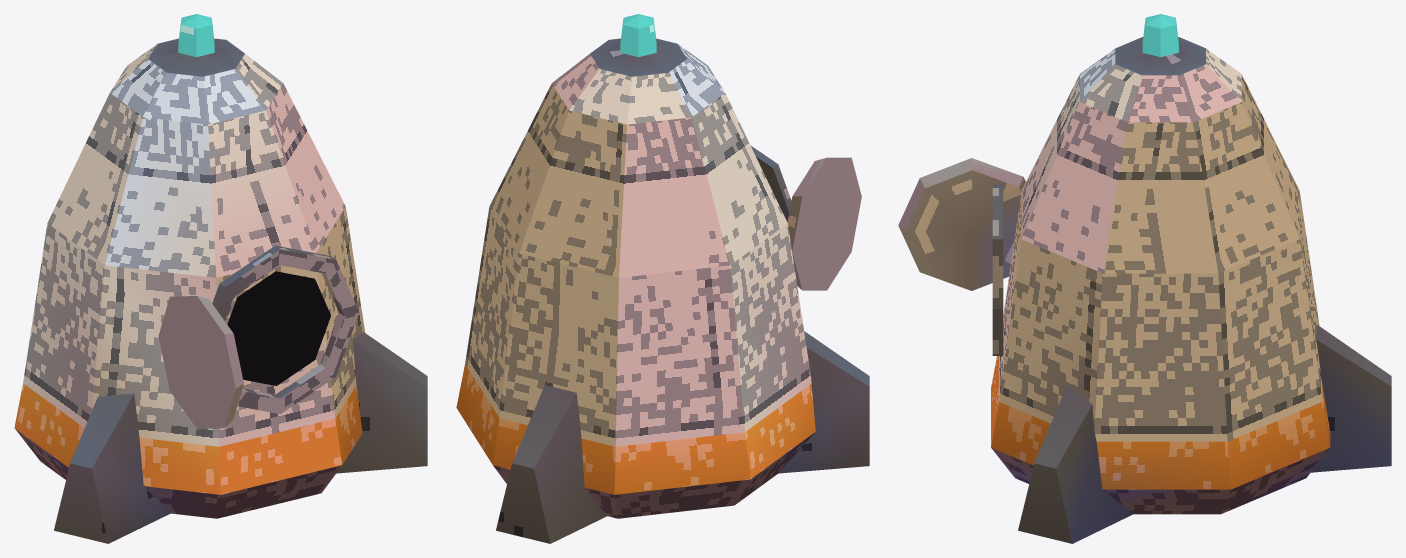
File: ship.escape_pod__open.glb
The picture shows the model from 3 angles, left to right: view 1: azimuth 30°, elevation 25°; view 2: azimuth 150°, elevation 25°; view 3: azimuth 270°, elevation 25°; orthographic projection.
Parts seen in each view (by area): view 1: kit_body, kit_fins, kit_hatch_dark, kit_hatch, kit_hatch_ring, kit_beacon; view 2: kit_body, kit_fins, kit_hatch, kit_beacon, kit_hatch_ring; view 3: kit_body, kit_fins, kit_hatch, kit_hatch_ring, kit_beacon.
Part boxes in pixels (x1=…): kit_body: x1=14, y1=38, x2=365, y2=518; kit_fins: x1=54, y1=332, x2=427, y2=543; kit_hatch_dark: x1=227, y1=271, x2=330, y2=385; kit_hatch: x1=158, y1=296, x2=243, y2=428; kit_hatch_ring: x1=212, y1=245, x2=359, y2=414; kit_beacon: x1=178, y1=14, x2=214, y2=57; kit_body: x1=456, y1=38, x2=815, y2=518; kit_fins: x1=496, y1=331, x2=869, y2=543; kit_hatch: x1=787, y1=157, x2=861, y2=290; kit_beacon: x1=620, y1=14, x2=656, y2=57; kit_hatch_ring: x1=751, y1=146, x2=791, y2=222; kit_body: x1=991, y1=37, x2=1330, y2=514; kit_fins: x1=1018, y1=324, x2=1391, y2=543; kit_hatch: x1=898, y1=158, x2=1025, y2=290; kit_hatch_ring: x1=992, y1=185, x2=1003, y2=355; kit_beacon: x1=1142, y1=14, x2=1178, y2=57.
Bounding box in the file's own units: 2.47 × 2.76 × 2.82.
8 materials, 8 textured.
